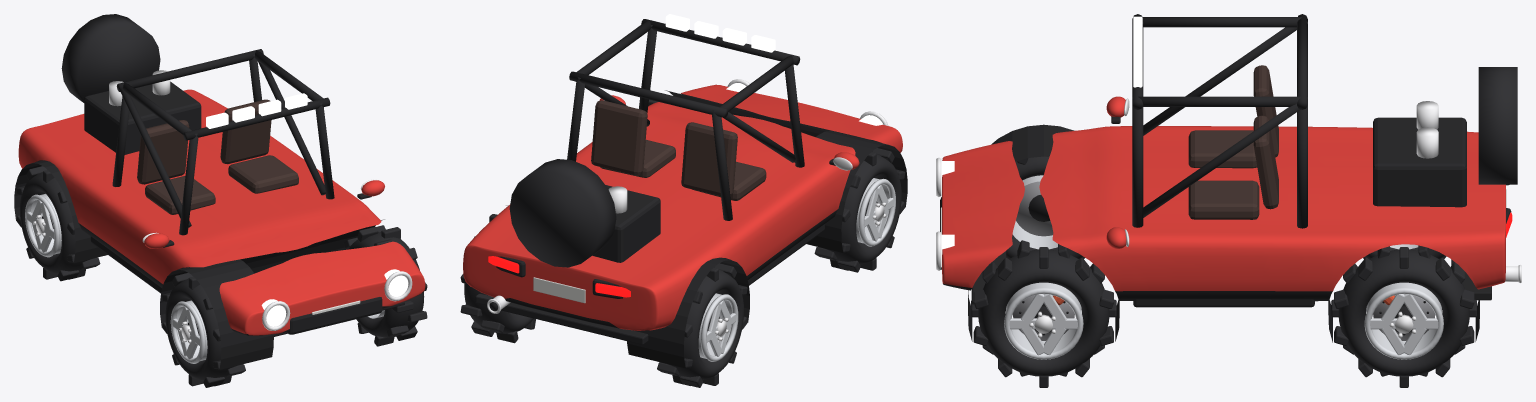
Rendered from dune_mid.glb.
3 views of the same model, side by side, from view 1: azimuth 30°, elevation 25°; view 2: azimuth 150°, elevation 25°; view 3: azimuth 270°, elevation 25° (orthographic). The views are drawn at different scales.
Visible parts, largest first — view 1: body, wheel_fr, wheel_rr, wheel_fl; view 2: body, wheel_fr, wheel_rr, wheel_rl; view 3: body, wheel_fl, wheel_rl, wheel_fr.
Boxes of the visible parts, box(x1,y1,x2,y2) form: body: box(14, 14, 425, 369); wheel_fr: box(162, 273, 245, 387); wheel_rr: box(16, 166, 100, 281); wheel_fl: box(343, 225, 427, 346); body: box(463, 14, 907, 368); wheel_fr: box(814, 148, 905, 272); wheel_rr: box(657, 263, 747, 387); wheel_rl: box(460, 214, 535, 343); body: box(936, 14, 1521, 342); wheel_fl: box(971, 240, 1116, 387); wheel_rl: box(1331, 245, 1476, 387); wheel_fr: box(1006, 156, 1084, 258).
Bounding box in the file's own units: 2.18 × 1.97 × 3.73.
